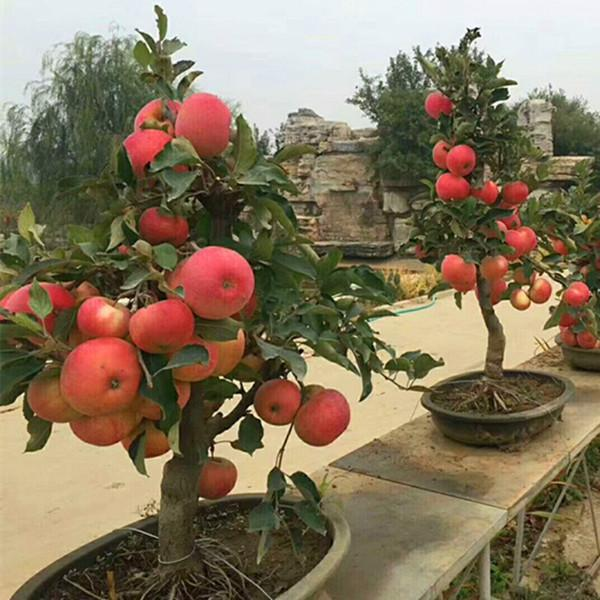apple: (58, 337, 140, 416), (177, 244, 255, 318), (123, 298, 195, 358), (174, 93, 232, 157), (295, 387, 351, 444), (27, 362, 74, 422), (253, 378, 300, 425), (138, 207, 187, 246), (196, 455, 236, 499), (440, 254, 473, 287), (445, 143, 476, 178), (528, 276, 551, 303)
